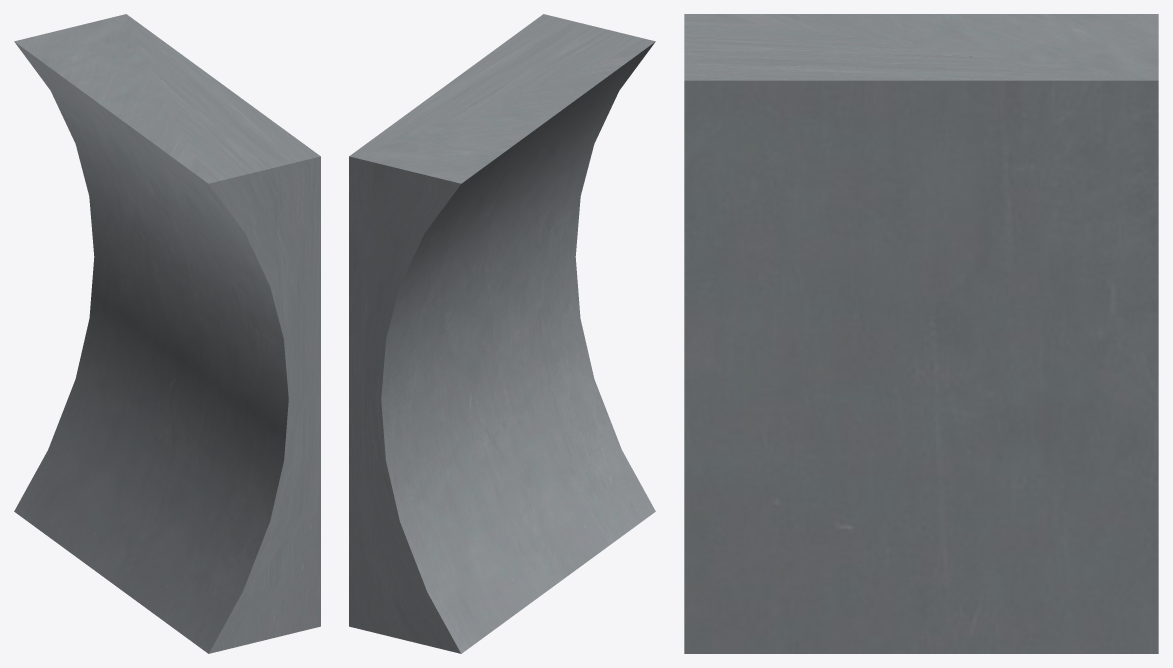
File: BasicWall_MetalTest.fbx
3 views of the same model, side by side, from view 1: azimuth 30°, elevation 25°; view 2: azimuth 150°, elevation 25°; view 3: azimuth 270°, elevation 25° (orthographic). The views are drawn at different scales.
Parts seen in each view (by area): view 1: pCube1; view 2: pCube1; view 3: pCube1.
Part boxes in pixels (<box>): pCube1: <box>14,14,320,653</box>; pCube1: <box>349,14,655,653</box>; pCube1: <box>684,14,1158,653</box>.
Bounding box in the file's own units: 1 × 4 × 3.
